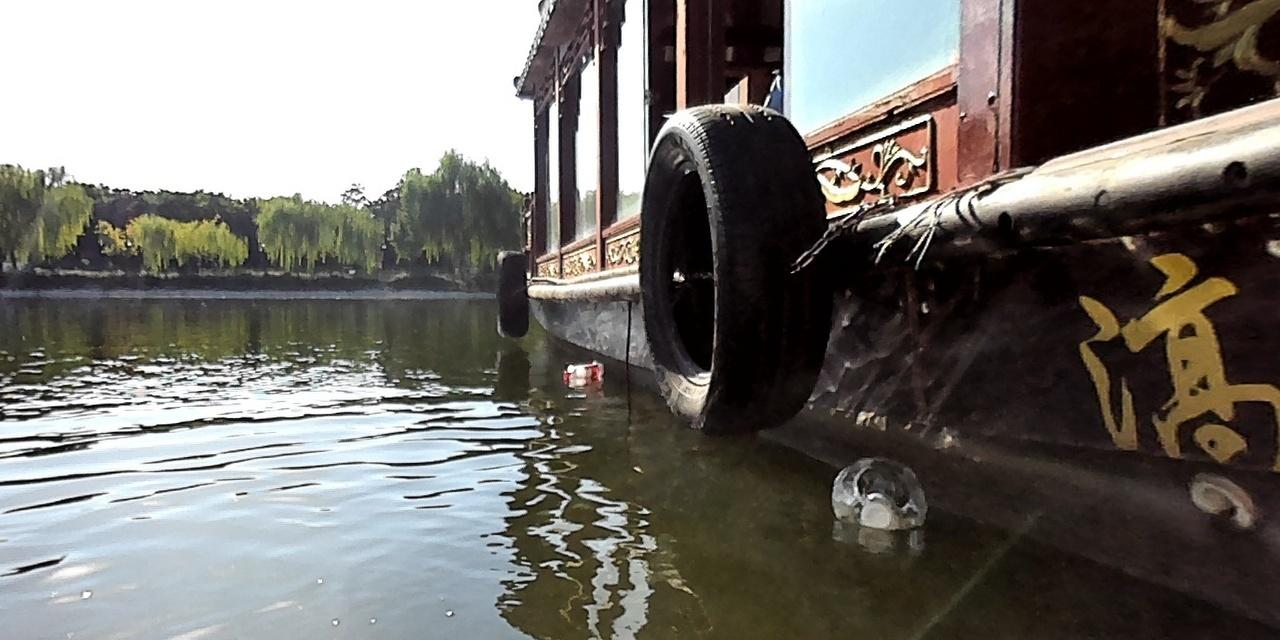bottle: (828, 456, 927, 530), (559, 360, 602, 382)
